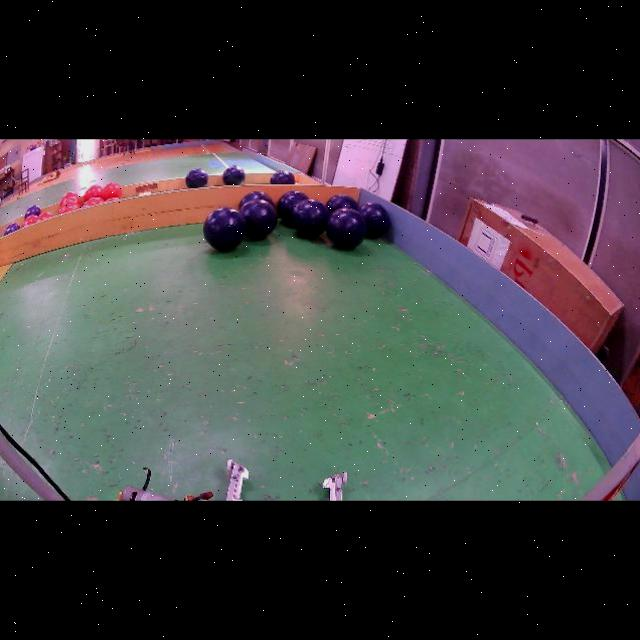B: (203, 207, 247, 251), (326, 209, 367, 250), (239, 200, 277, 240), (291, 200, 330, 237), (358, 202, 390, 239), (277, 191, 307, 226), (239, 191, 273, 209), (326, 195, 358, 214), (223, 166, 246, 186), (185, 168, 208, 188), (270, 171, 295, 185)
P: (24, 205, 41, 219), (4, 222, 21, 236)
R: (101, 182, 123, 200), (84, 185, 102, 202), (58, 202, 81, 215), (82, 197, 105, 207), (60, 196, 80, 207), (61, 192, 78, 204), (22, 215, 39, 227), (38, 211, 53, 221)
